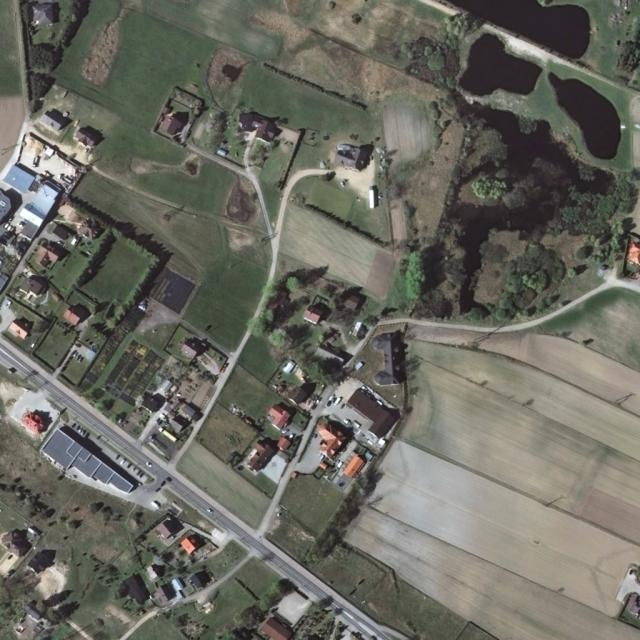agricultural_land: (346, 326, 640, 640), (372, 315, 640, 550), (363, 437, 639, 615), (234, 2, 440, 140), (382, 101, 434, 165)
building: (168, 247, 450, 576)
wetland: (542, 53, 637, 167), (456, 29, 547, 113)
